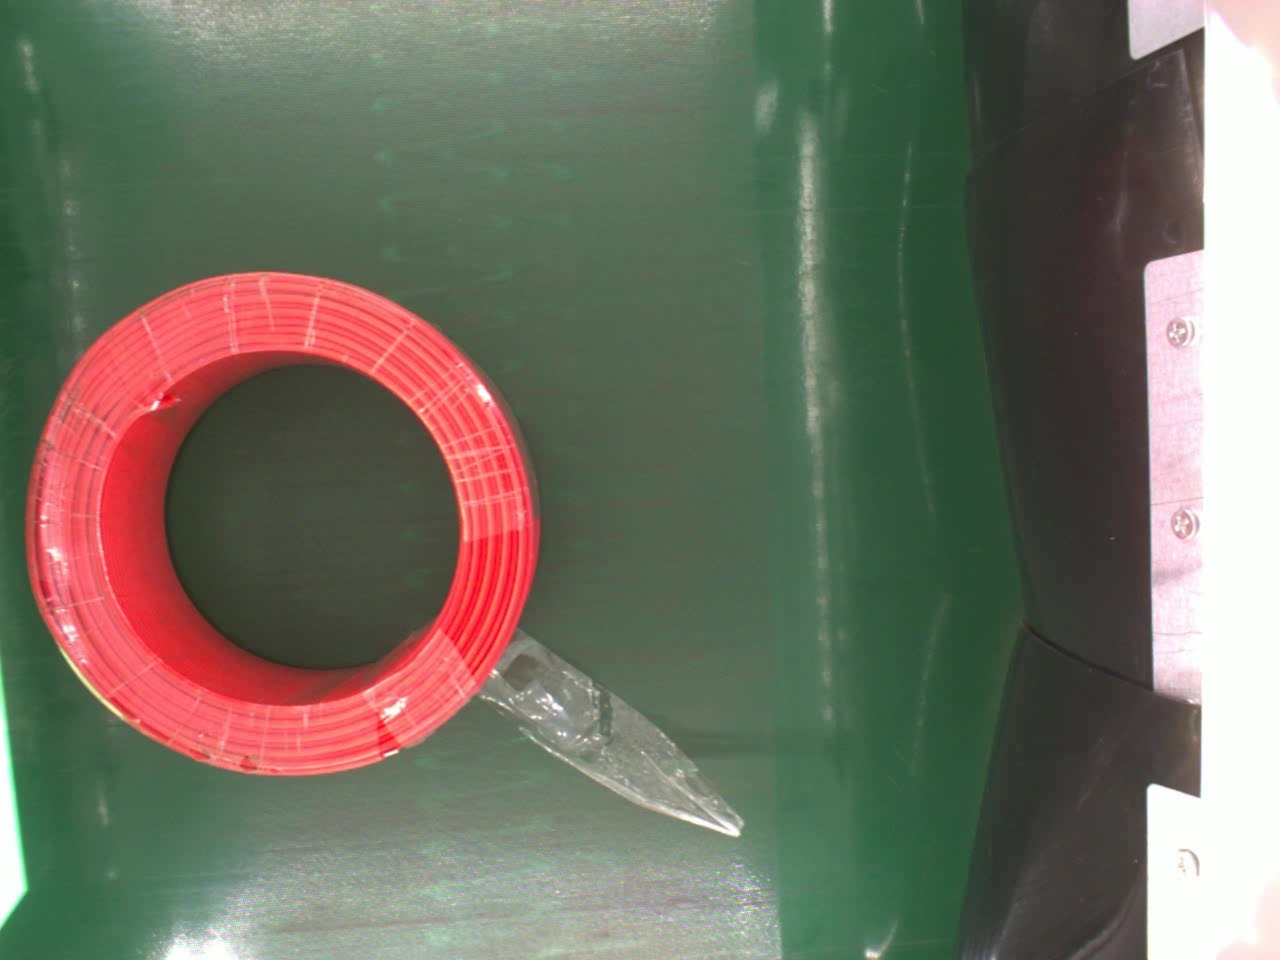red: (25, 269, 544, 781)
